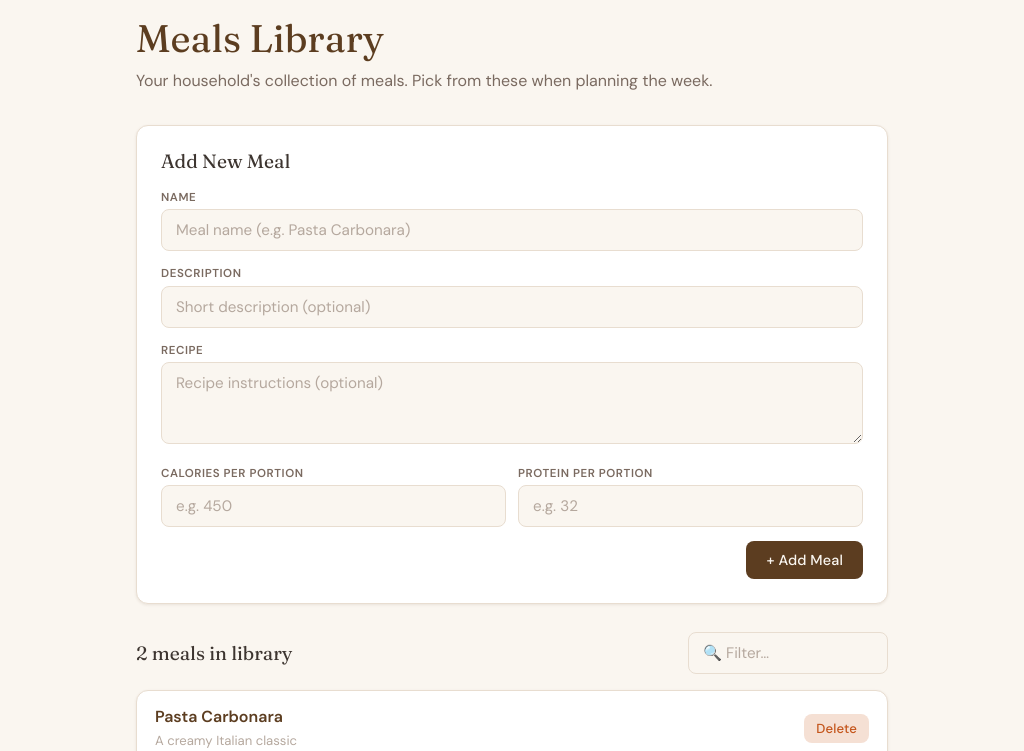
Test: MealsPage › shows "No meals match" when search finds nothing
Type "zzznomatch" into the field with placeholder "🔍 Filter…" at (788, 653), box [688,632,888,674]
(page scrolled)
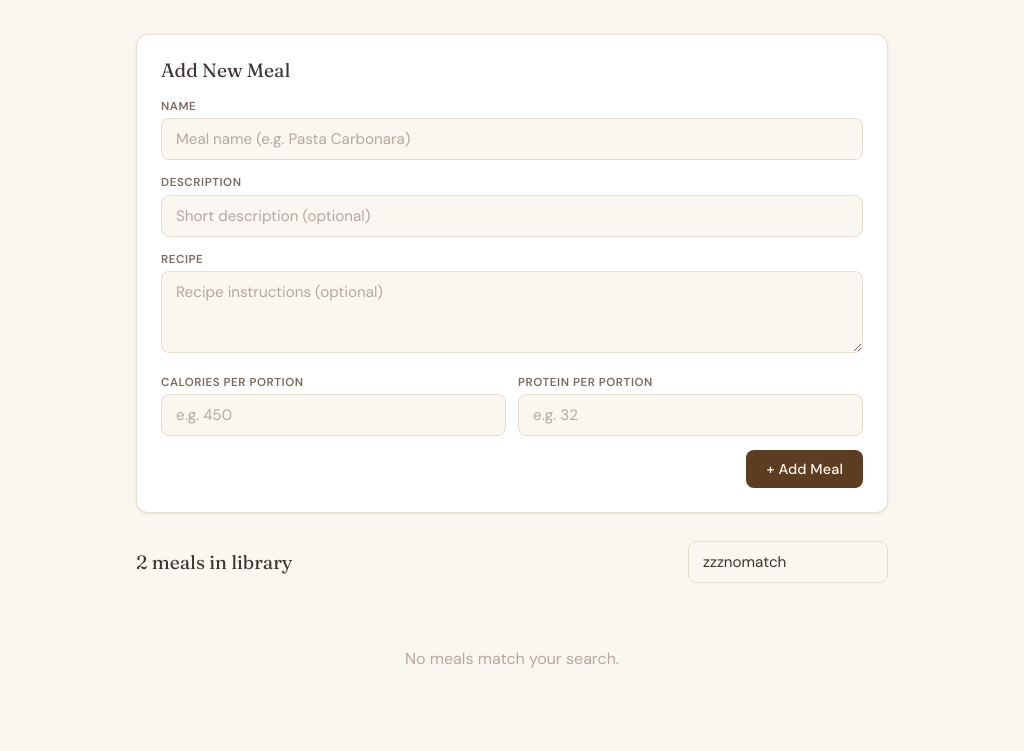
Result: the text "No meals match your search." is shown at [405,648,619,669]
